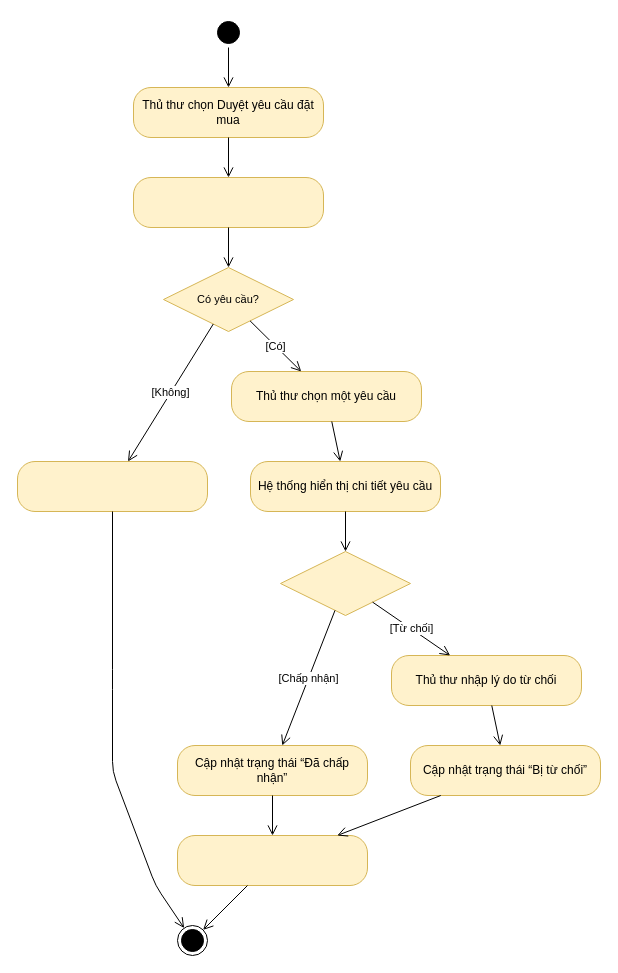
Some shapes in this 618 by 973 pixel diagram are drawn without their labels. Here are the shapes that lost their labels. From the top down, the centre of each, then its label:
At [228,202]: "Hệ thống lấy danh sách yêu cầu chờ duyệt".
At [112,486]: "Hệ thống thông báo không có yêu cầu mới".
At [345,583]: "Quyết định?".
At [272,860]: "Hệ thống gửi email thông báo kết quả cho độc giả".
